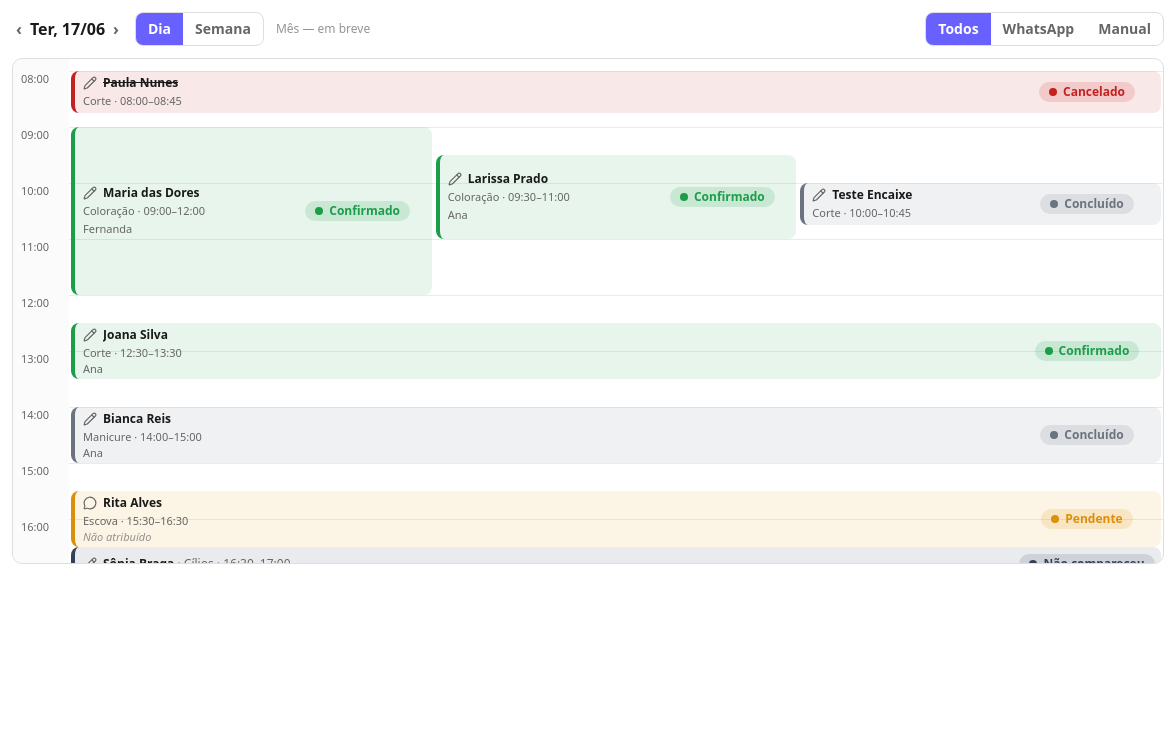
Test: AgendaGrid › filtra por origem (WhatsApp esconde os manuais)
The image size is (1176, 732).
What coordinates should you click on to do the following:
click the button "WhatsApp"
I would click on:
 (1038, 29)
Its box is [991,13,1086,45].
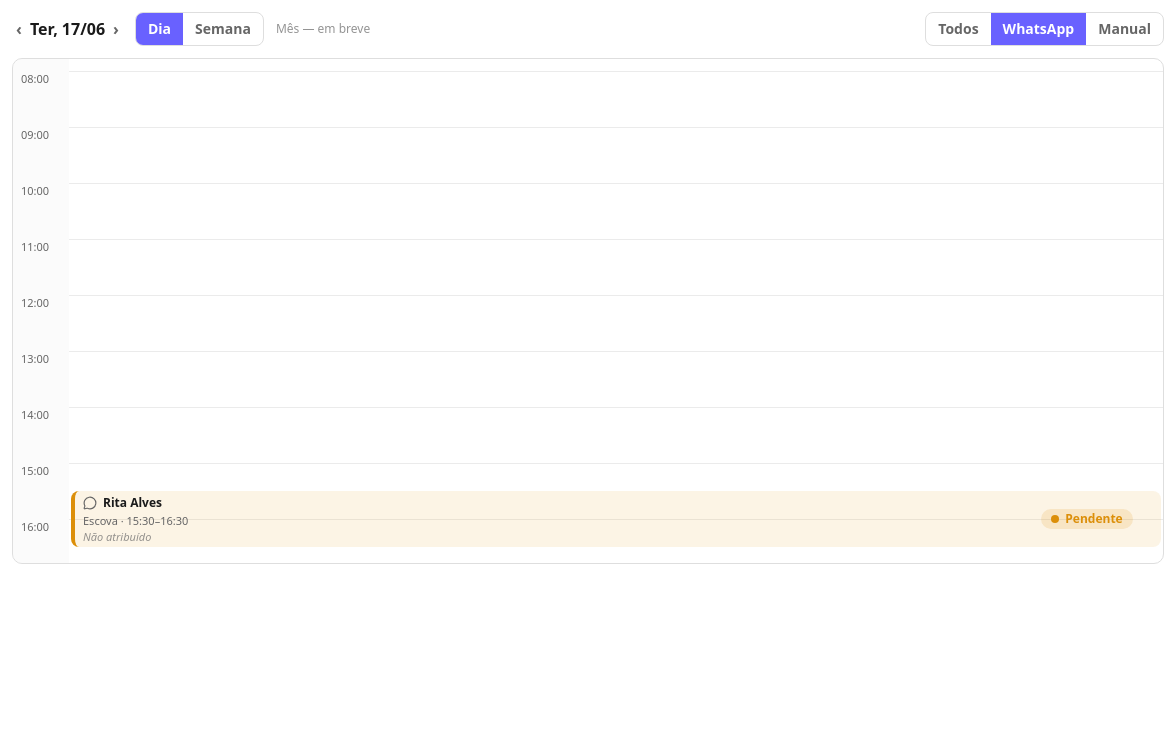
Expected: the text "Rita Alves" is shown, [103,495,162,511]
Result: the button "Maria das Dores" is gone
